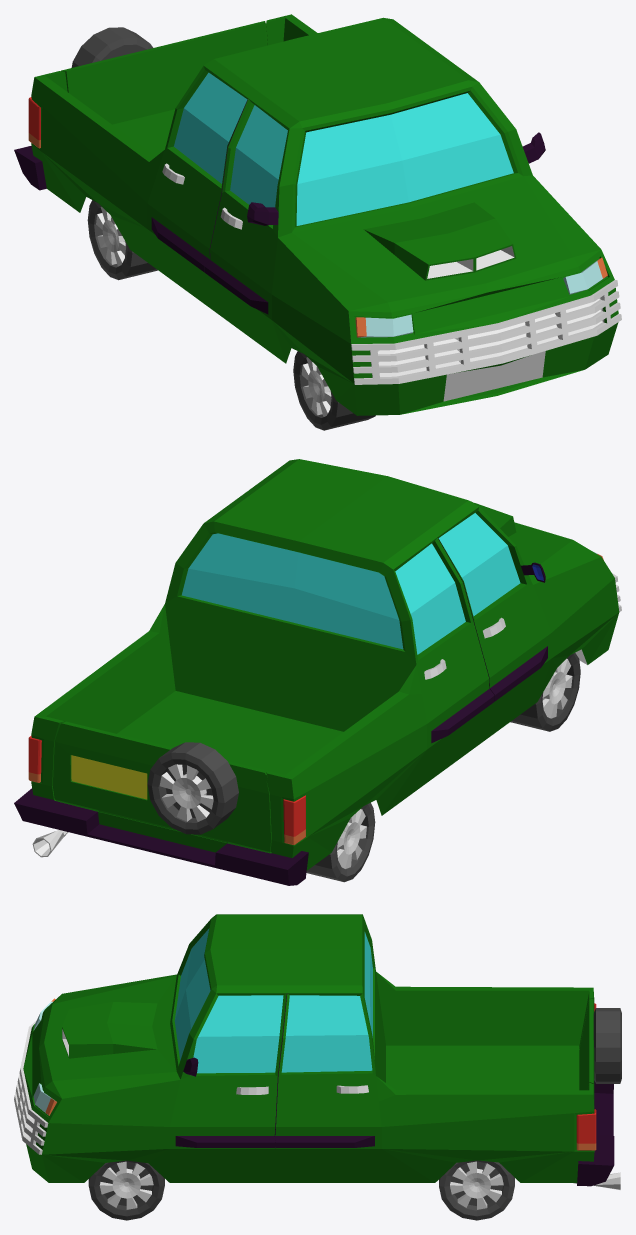
File: LowPolyTruck_LODs.fbx
3 renders of one model, top to bottom at view 1: azimuth 30°, elevation 25°; view 2: azimuth 150°, elevation 25°; view 3: azimuth 270°, elevation 25°, orthographic. The views are drawn at different scales.
Parts seen in each view (by area): view 1: Chassis_LOD0, WheelsBack_LOD0, WheelsFront_LOD0; view 2: Chassis_LOD0, WheelsFront_LOD0, WheelsBack_LOD0; view 3: Chassis_LOD0, WheelsFront_LOD0, WheelsBack_LOD0.
Part boxes in pixels (left/top/right/bottom): Chassis_LOD0: left=14, top=14, right=621, bottom=415; WheelsBack_LOD0: left=293, top=351, right=375, bottom=430; WheelsFront_LOD0: left=87, top=200, right=157, bottom=280; Chassis_LOD0: left=14, top=459, right=621, bottom=885; WheelsFront_LOD0: left=306, top=802, right=375, bottom=882; WheelsBack_LOD0: left=510, top=653, right=580, bottom=731; Chassis_LOD0: left=14, top=914, right=621, bottom=1190; WheelsFront_LOD0: left=439, top=1160, right=514, bottom=1220; WheelsBack_LOD0: left=88, top=1160, right=164, bottom=1220.
Size of what is drawn, in the model's own units: 287 by 239 by 597.
